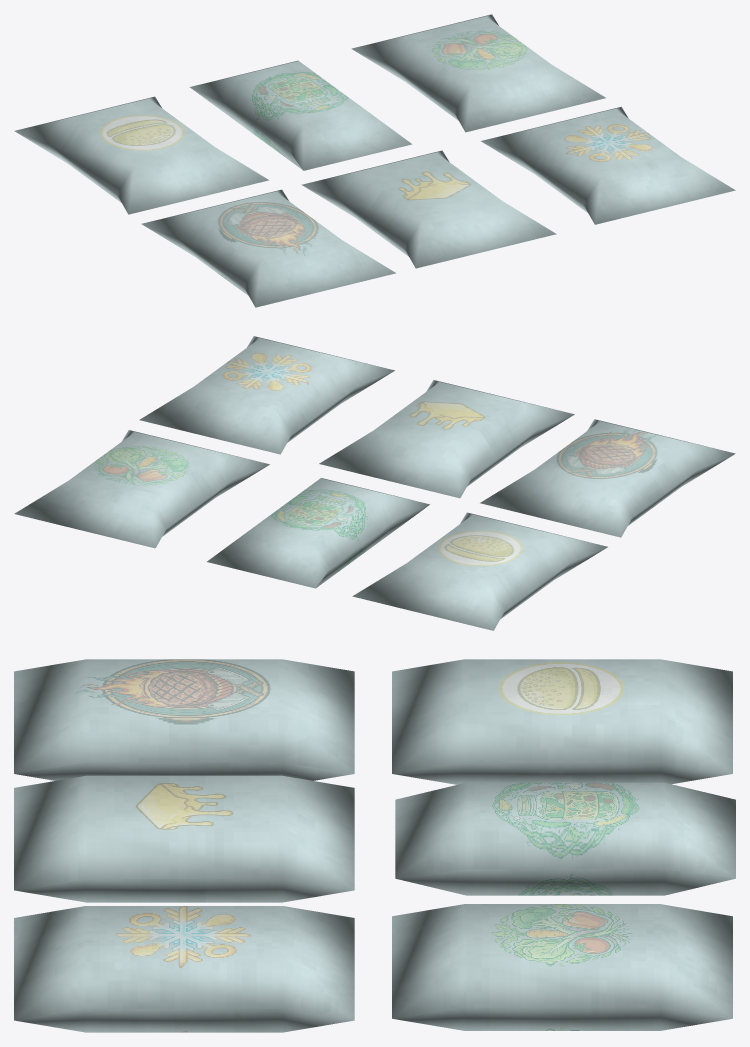
The model's file is Packs.fbx.
3 renders of one model, top to bottom at view 1: azimuth 30°, elevation 25°; view 2: azimuth 150°, elevation 25°; view 3: azimuth 270°, elevation 25°, orthographic. The views are drawn at different scales.
Parts seen in each view (by area): view 1: CheesePack, BunPack, PattyPack, VegetablePack, FryablePack, PicklePack; view 2: PattyPack, VegetablePack, BunPack, CheesePack, FryablePack, PicklePack; view 3: CheesePack, VegetablePack, FryablePack, BunPack, PattyPack, PicklePack.
Part boxes in pixels (<box>): CheesePack: <box>301,150,556,268</box>; BunPack: <box>14,96,268,214</box>; PattyPack: <box>141,189,395,307</box>; VegetablePack: <box>351,14,605,132</box>; FryablePack: <box>481,106,735,224</box>; PicklePack: <box>189,60,411,170</box>; PattyPack: <box>480,419,735,537</box>; VegetablePack: <box>14,430,269,548</box>; BunPack: <box>352,512,607,630</box>; CheesePack: <box>319,380,574,498</box>; FryablePack: <box>139,336,394,454</box>; PicklePack: <box>207,478,429,588</box>; CheesePack: <box>14,775,354,902</box>; VegetablePack: <box>392,904,732,1030</box>; FryablePack: <box>14,906,354,1032</box>; BunPack: <box>392,659,732,784</box>; PattyPack: <box>14,659,354,780</box>; PicklePack: <box>395,782,735,895</box>.
Bounding box in the file's own units: 83.44 × 7.61 × 72.94.
